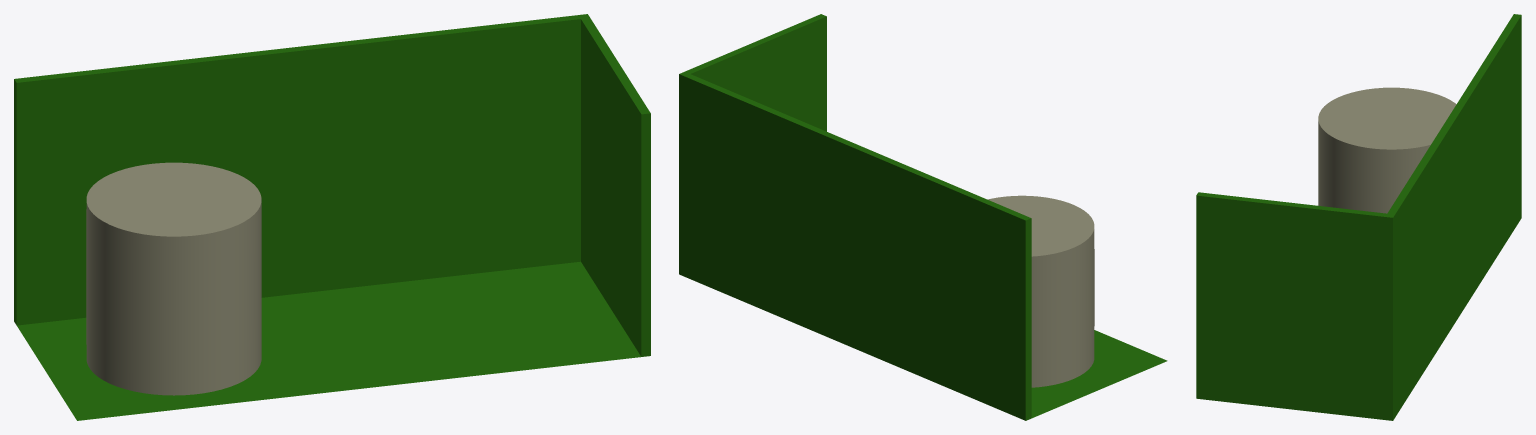
Rendered from pgc_n_bravo.glb.
3 renders of one model, left to right at view 1: azimuth 30°, elevation 25°; view 2: azimuth 150°, elevation 25°; view 3: azimuth 270°, elevation 25°, orthographic. The views are drawn at different scales.
Visible parts, largest first — view 1: bravo2; view 2: bravo2; view 3: bravo2.
Part boxes in pixels (box(x1,y1,x2,y2)): bravo2: box(14, 14, 650, 420); bravo2: box(679, 14, 1167, 420); bravo2: box(1196, 14, 1521, 420).
Bounding box in the file's own units: 6.54 × 2.75 × 3.99.
